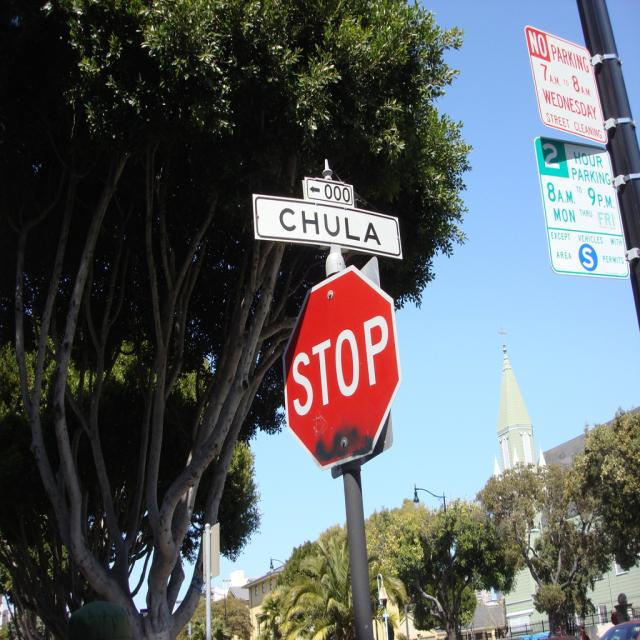Stop-sign: (282, 262, 403, 472)
